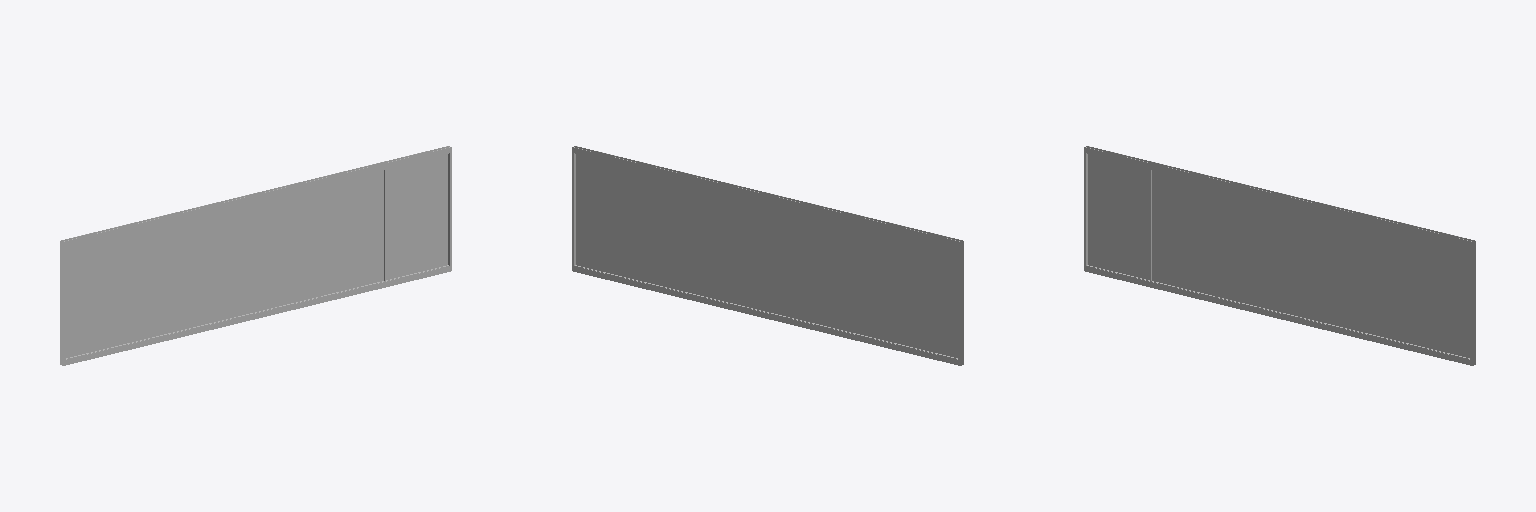
The model's file is wallWindow.obj.
The picture shows the model from 3 angles: view 1: azimuth 30°, elevation 25°; view 2: azimuth 150°, elevation 25°; view 3: azimuth 330°, elevation 25°; orthographic projection.
Visible parts, largest first — view 1: Object01, BIG_WINDOW; view 2: Object01, BIG_WINDOW; view 3: Object01, BIG_WINDOW.
Boxes of the visible parts, x1=… form: Object01: x1=65, y1=154, x2=447, y2=358; BIG_WINDOW: x1=60, y1=146, x2=451, y2=365; Object01: x1=576, y1=154, x2=958, y2=358; BIG_WINDOW: x1=572, y1=146, x2=963, y2=365; Object01: x1=1088, y1=154, x2=1470, y2=358; BIG_WINDOW: x1=1084, y1=146, x2=1475, y2=365.
Bounding box in the file's own units: 70.98 × 21.61 × 0.6402.